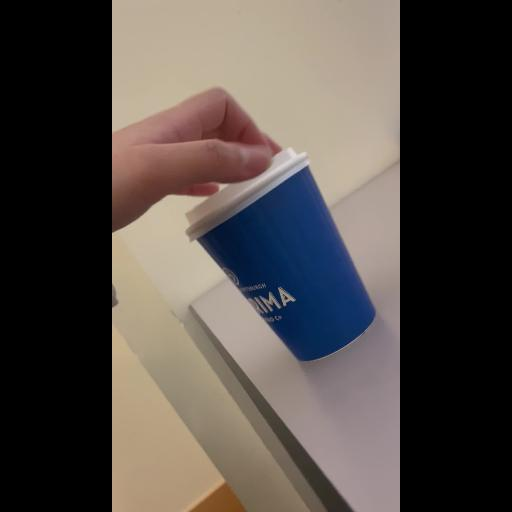lp_paper_cup: (168, 144, 378, 394)
